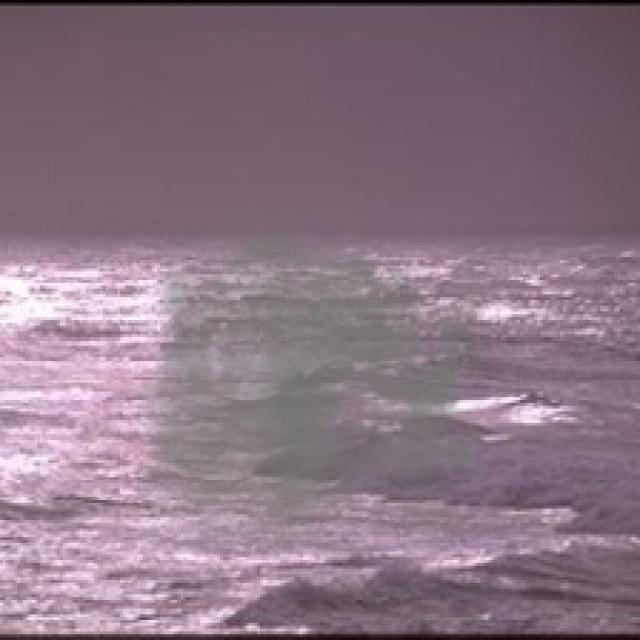smoke: (137, 203, 489, 554)
